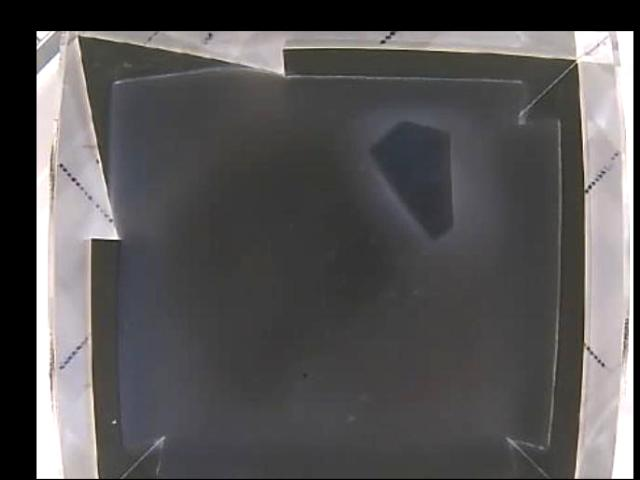Mooli: (368, 120, 455, 243)
